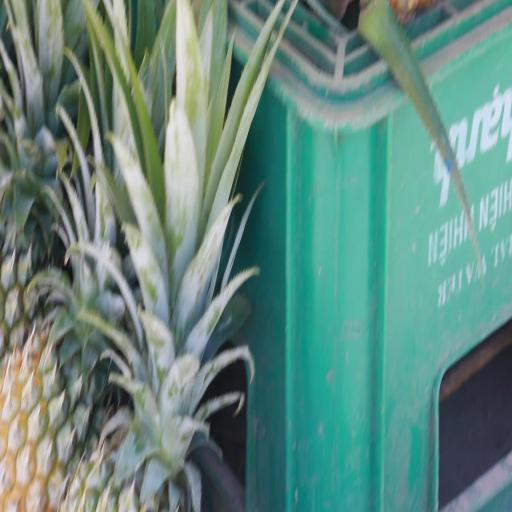Pineapple - v8 v1: (0, 239, 110, 511)
